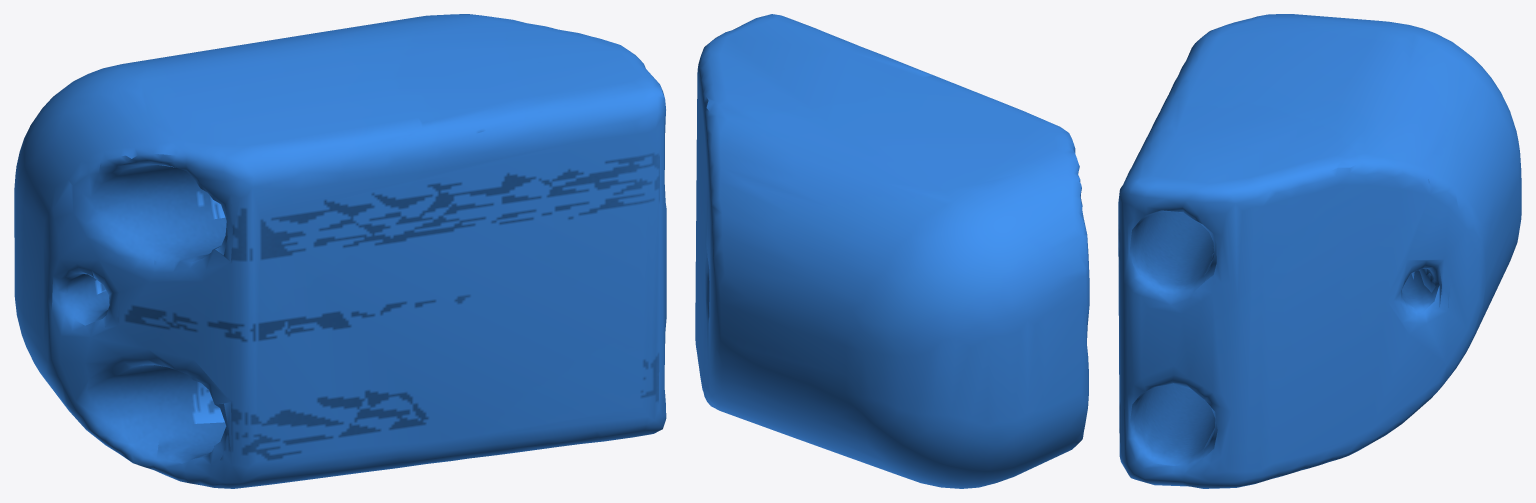
Rendered from right_thomb_upper.obj.
The picture shows the model from 3 angles, left to right: view 1: azimuth 30°, elevation 25°; view 2: azimuth 150°, elevation 25°; view 3: azimuth 270°, elevation 25°; orthographic projection. The views are drawn at different scales.
Visible parts, largest first — view 1: right_thomb_upper; view 2: right_thomb_upper; view 3: right_thomb_upper.
Boxes of the visible parts, x1,y1,x2,y2 form: right_thomb_upper: (14, 14, 666, 488); right_thomb_upper: (695, 14, 1089, 488); right_thomb_upper: (1118, 14, 1521, 488).
Bounding box in the file's own units: 0.0202 × 0.0132 × 0.016.
Materials: 1 (1 with a texture image).
